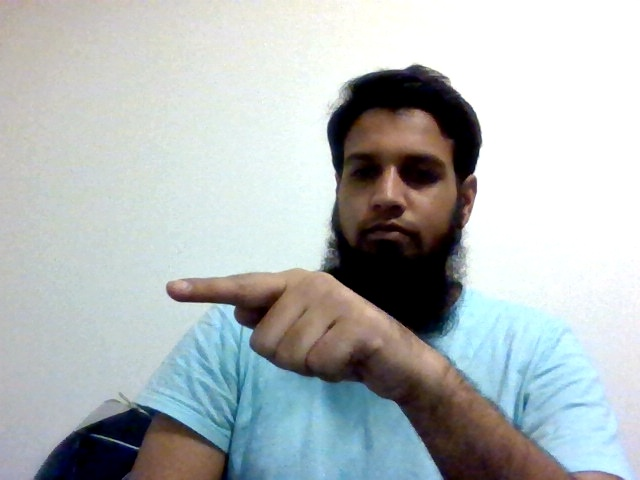you: (164, 267, 436, 404)
